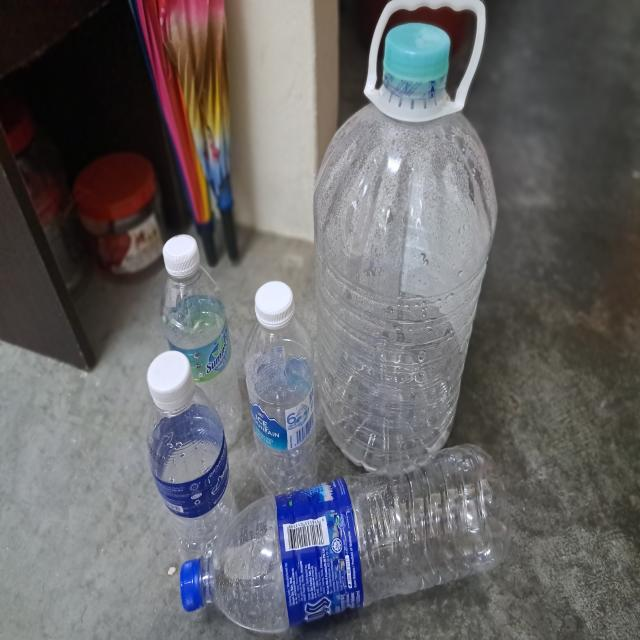plastic bottle: (313, 88, 496, 474), (204, 445, 508, 634), (146, 388, 237, 563), (161, 268, 242, 442), (243, 317, 315, 499)
plastic bottle cap: (384, 20, 451, 85), (147, 350, 195, 408), (254, 279, 295, 327), (162, 234, 200, 276), (180, 558, 200, 612)
